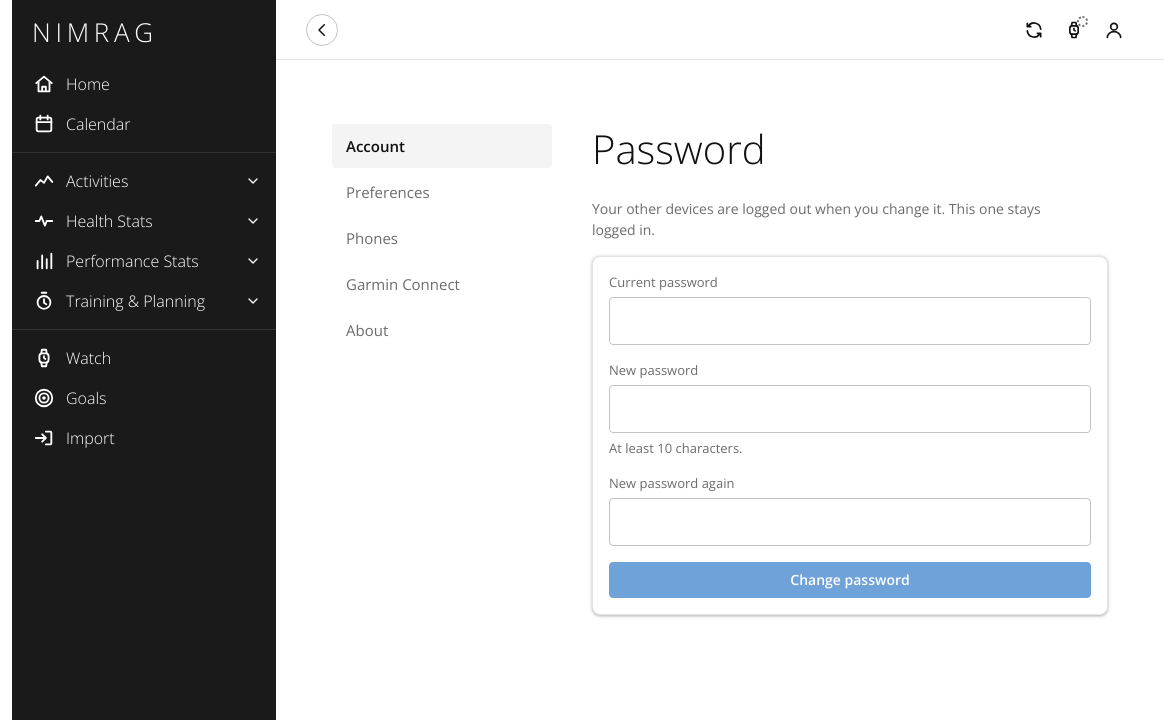
Profile: password › a wrong current password (403) says so and stays on the page
Type "nope nope nope" into the password field labelled "Current password" at [850, 321], box [609, 297, 1091, 345]
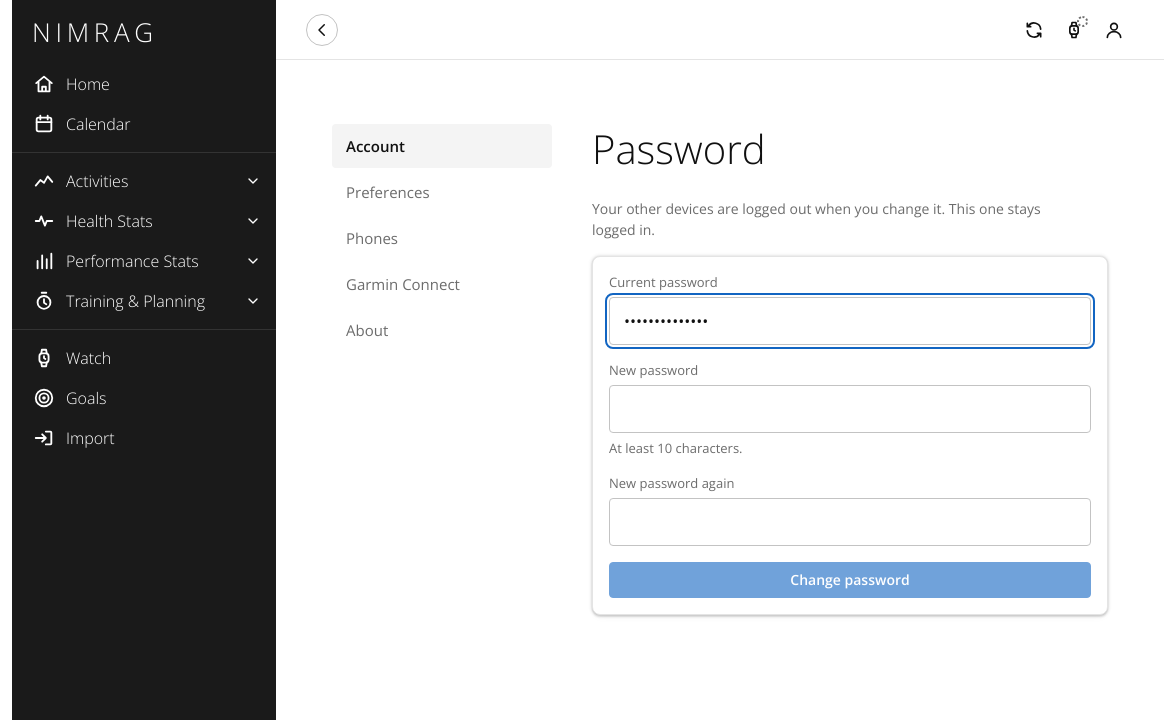
Type "new password 123" into the password field labelled "New password" at [850, 409], box [609, 385, 1091, 433]
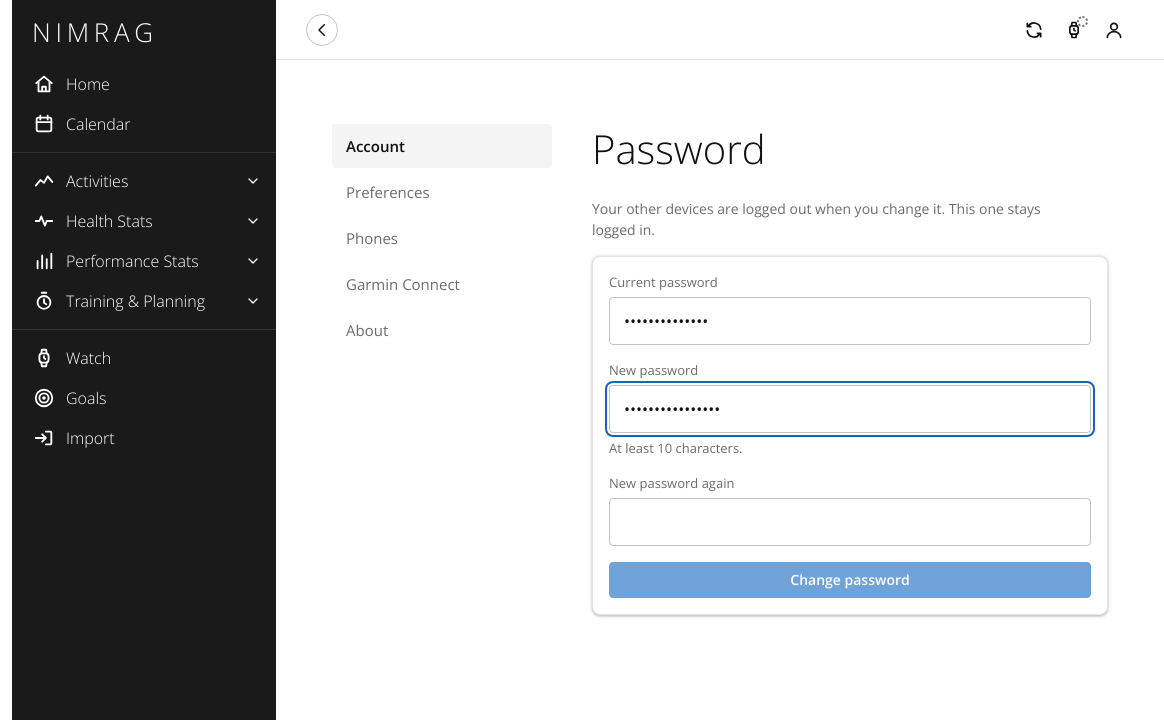
Type "new password 123" into the password field labelled "New password again" at [850, 522], box [609, 498, 1091, 546]
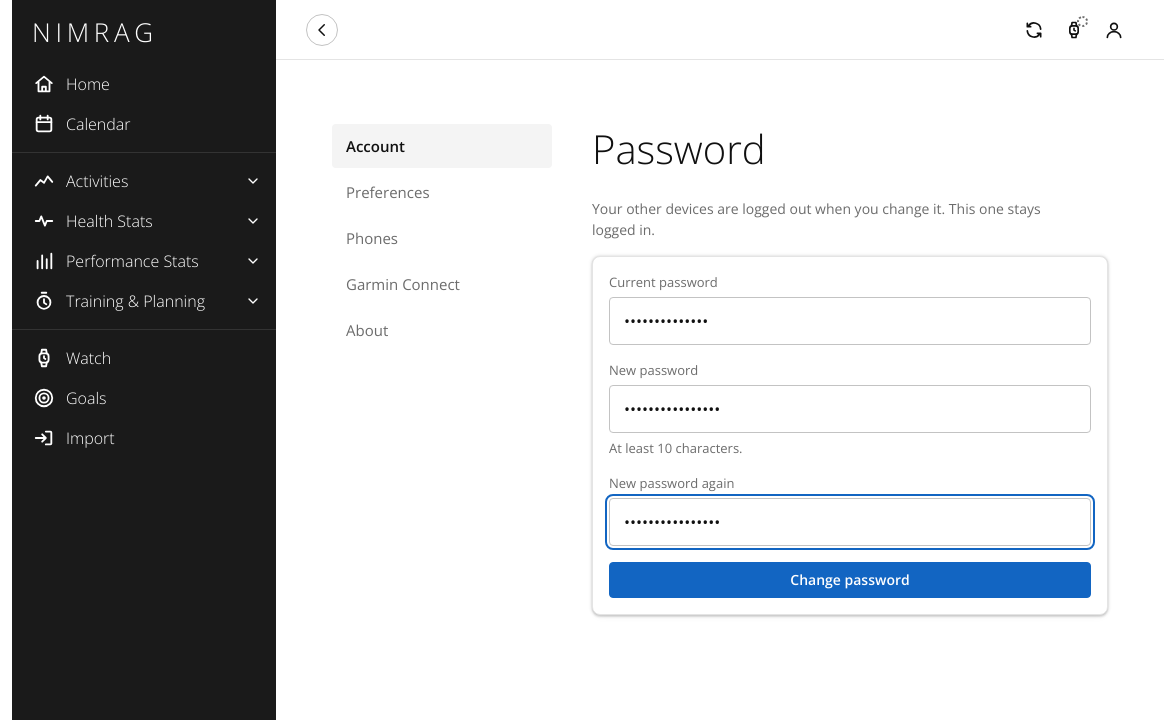
Click the button "Change password" at [850, 580], box [609, 562, 1091, 598]
(page scrolled)
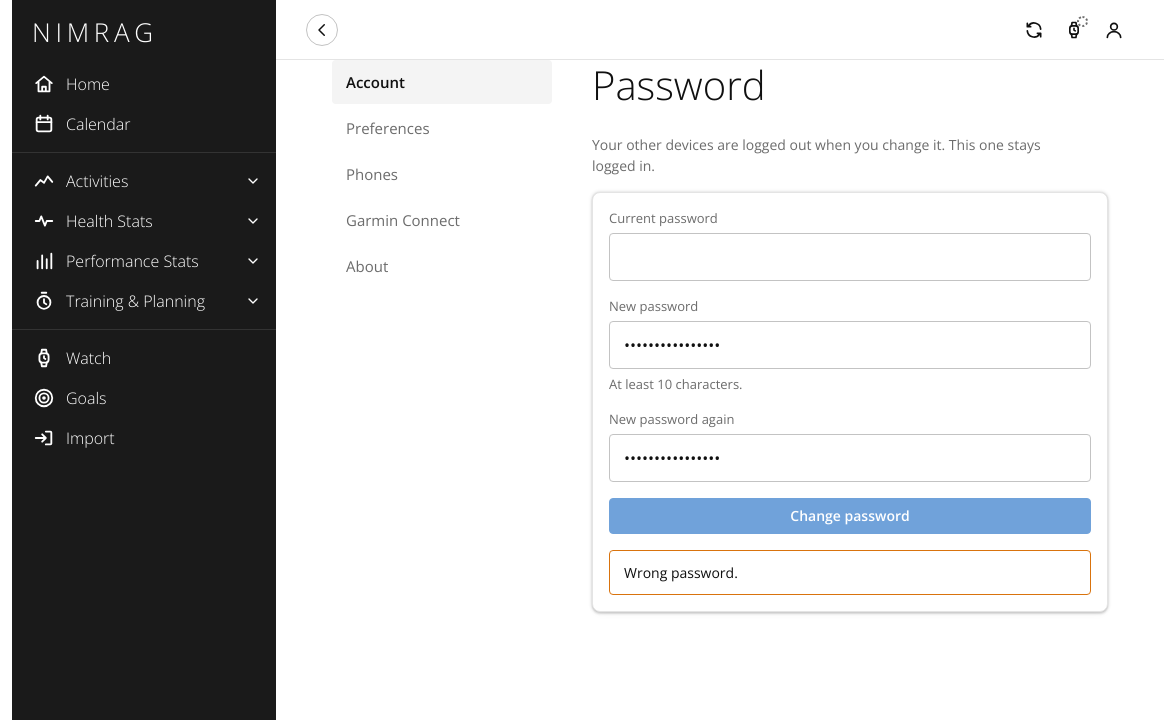
Expected: the message reads "Wrong password.", [624, 563, 738, 582]
